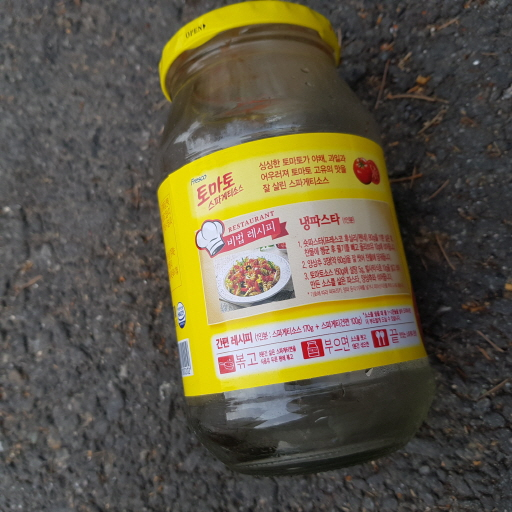Glass_5: (146, 2, 433, 473)
